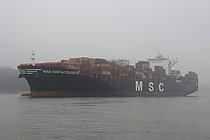Ship: (14, 46, 201, 101)
